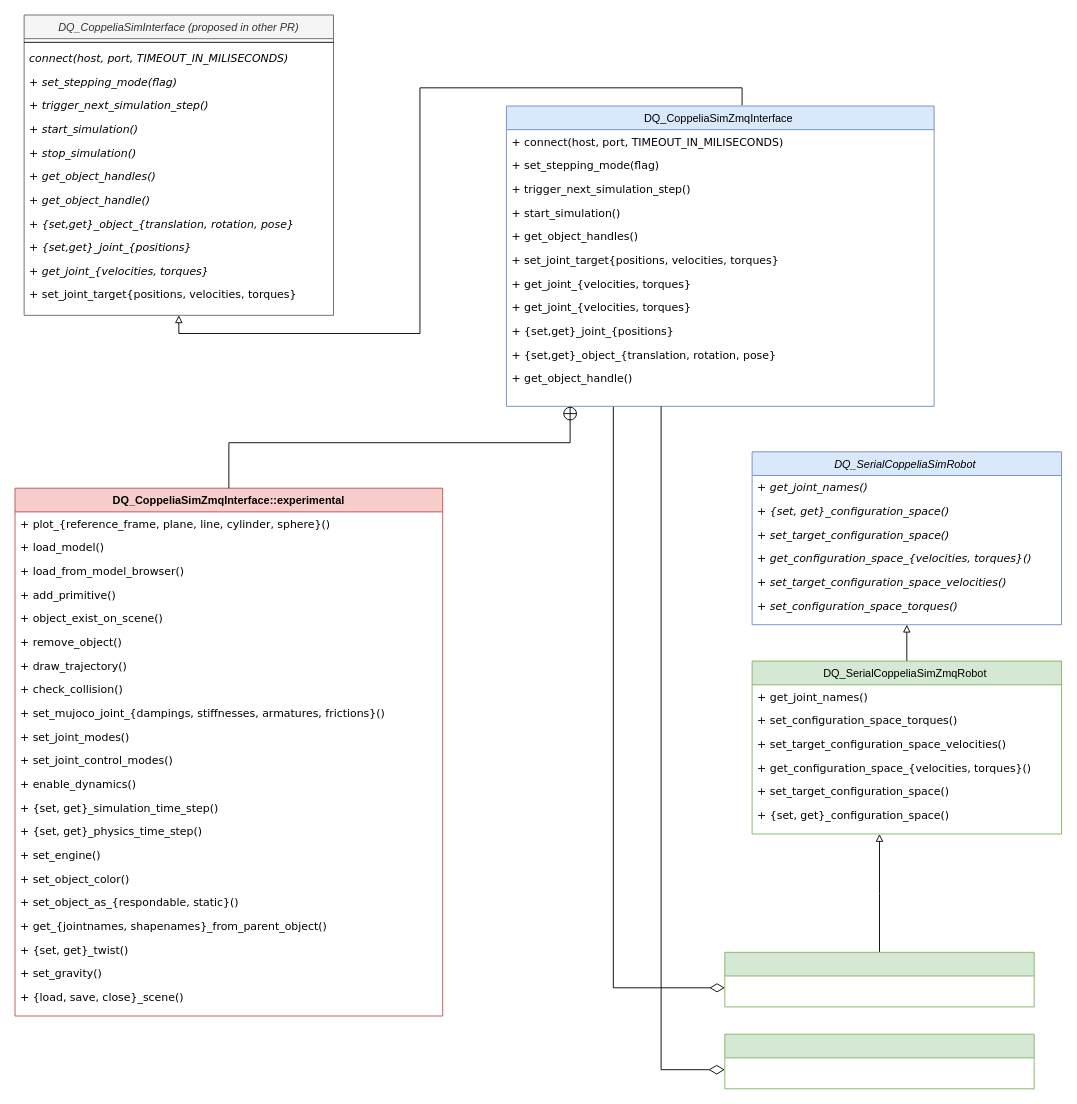
The diagram is 1077 pixels wide and 1104 high, and some of its shapes have lost their labels. Here are the shapes that lost their labels. From the top down, the centre of each, then its label:
the point at 879,979: URXCoppeliaSimZmqRobot
the point at 879,1061: FrankaEmikaPandaCoppeliaSimZmqRobot
